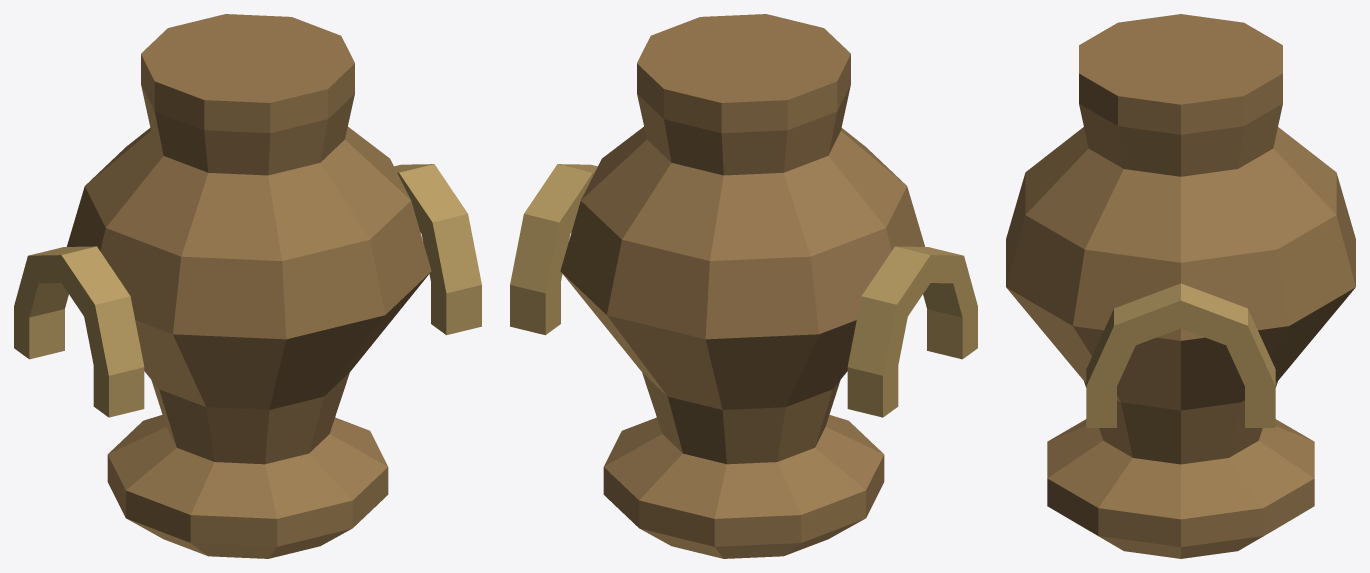
File: VIC_L08_CEREMONIAL_VESSEL_Roblox.fbx
3 views of the same model, side by side, from view 1: azimuth 30°, elevation 25°; view 2: azimuth 150°, elevation 25°; view 3: azimuth 270°, elevation 25° (orthographic).
Visible parts, largest first — view 1: VIC_L08_CEREMONIAL_VESSEL__Bronze, VIC_L08_CEREMONIAL_VESSEL__Brass; view 2: VIC_L08_CEREMONIAL_VESSEL__Bronze, VIC_L08_CEREMONIAL_VESSEL__Brass; view 3: VIC_L08_CEREMONIAL_VESSEL__Bronze, VIC_L08_CEREMONIAL_VESSEL__Brass.
Boxes of the visible parts, <box> form: VIC_L08_CEREMONIAL_VESSEL__Bronze: <box>67,14,431,558</box>; VIC_L08_CEREMONIAL_VESSEL__Brass: <box>14,164,481,417</box>; VIC_L08_CEREMONIAL_VESSEL__Bronze: <box>560,14,924,558</box>; VIC_L08_CEREMONIAL_VESSEL__Brass: <box>510,164,977,417</box>; VIC_L08_CEREMONIAL_VESSEL__Bronze: <box>1006,14,1355,558</box>; VIC_L08_CEREMONIAL_VESSEL__Brass: <box>1086,283,1275,427</box>.
Size of the model in its own units: 1.68 by 1.98 by 1.37.
